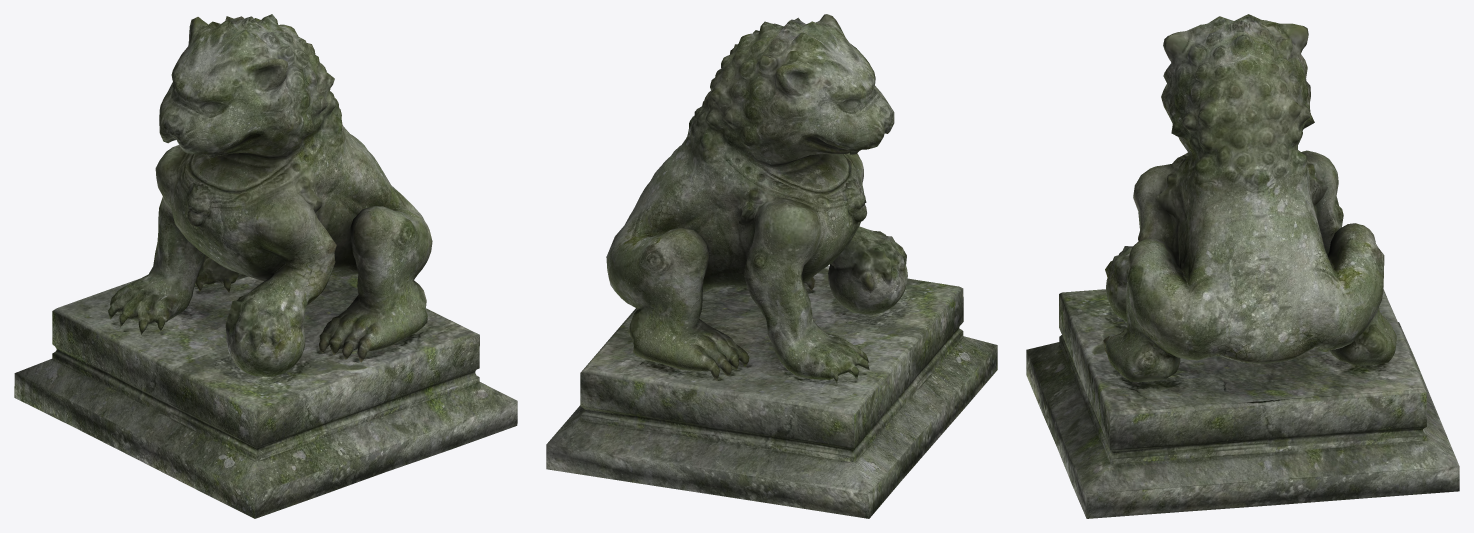
The model's file is komainu_moss.glb.
3 renders of one model, left to right at view 1: azimuth 30°, elevation 25°; view 2: azimuth 150°, elevation 25°; view 3: azimuth 270°, elevation 25°, orthographic.
Visible parts, largest first — view 1: Komainu_Right_Komaine_Moss_0, Stelle_Right_Stelle_Moss_0; view 2: Komainu_Right_Komaine_Moss_0, Stelle_Right_Stelle_Moss_0; view 3: Komainu_Right_Komaine_Moss_0, Stelle_Right_Stelle_Moss_0.
Boxes of the visible parts, x1,y1,x2,y2 form: Komainu_Right_Komaine_Moss_0: (108, 14, 432, 376); Stelle_Right_Stelle_Moss_0: (14, 274, 517, 518); Komainu_Right_Komaine_Moss_0: (606, 14, 907, 382); Stelle_Right_Stelle_Moss_0: (546, 266, 997, 518); Komainu_Right_Komaine_Moss_0: (1103, 14, 1396, 382); Stelle_Right_Stelle_Moss_0: (1026, 289, 1459, 518).
Size of the model in its own units: 1.42 by 1.56 by 1.51.
2 materials, 2 textured.
